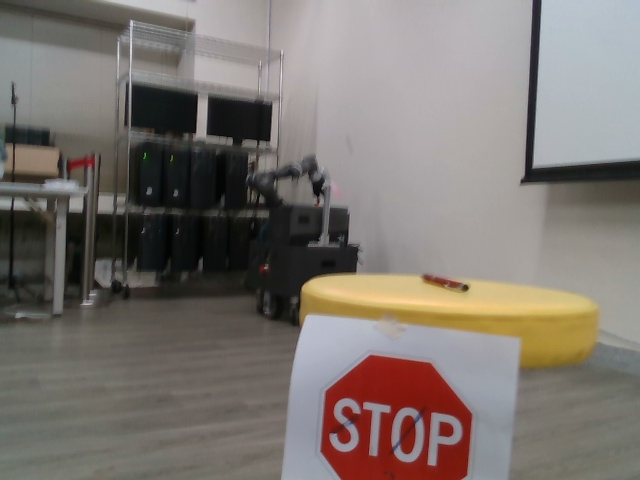stop: (311, 350, 478, 480)
